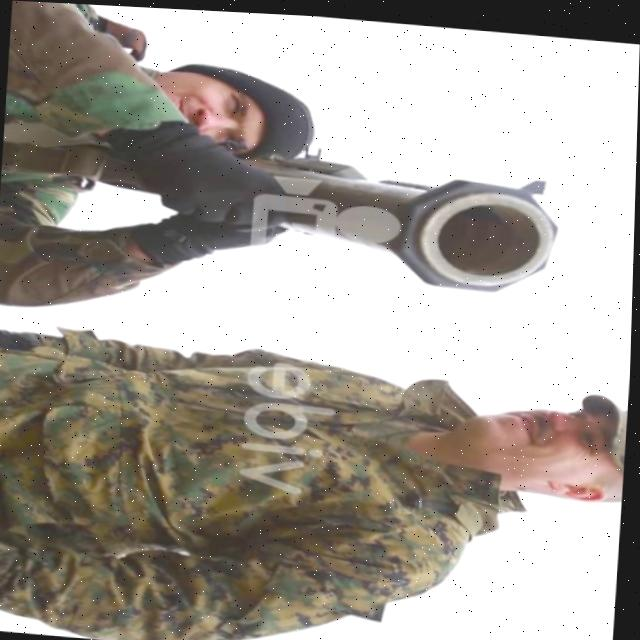rocket: (247, 153, 572, 293)
